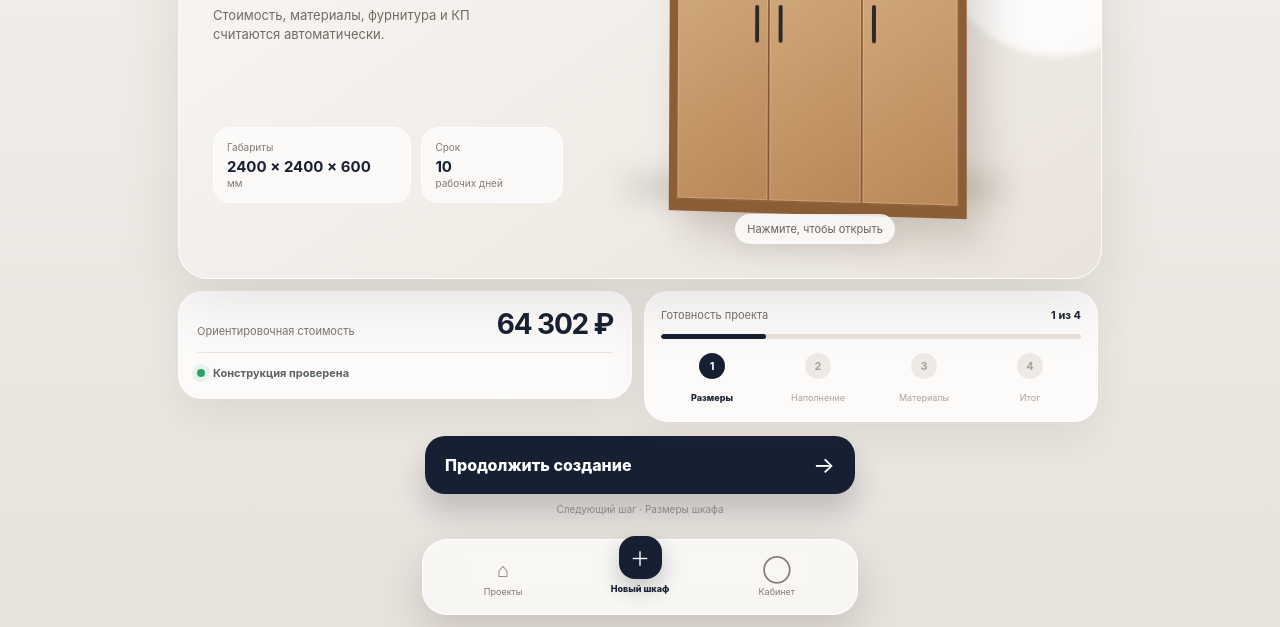
prototype screen › preserves the current continue-button transition
(page scrolled)
expect the text "64 302 ₽" is shown: met, box [497,310,613,338]
Click the button "Продолжить создание →" at point(538, 465), box [425,436,855,494]
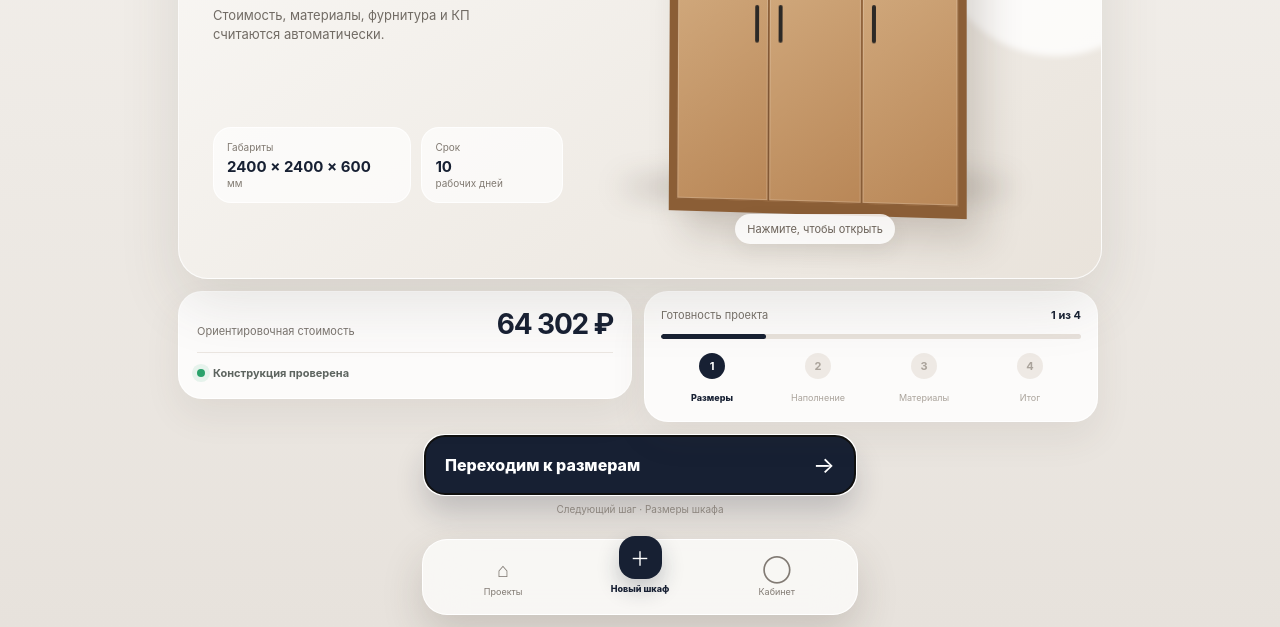
expect the button "Переходим к размерам →" is shown: met, box [425,436,855,494]
